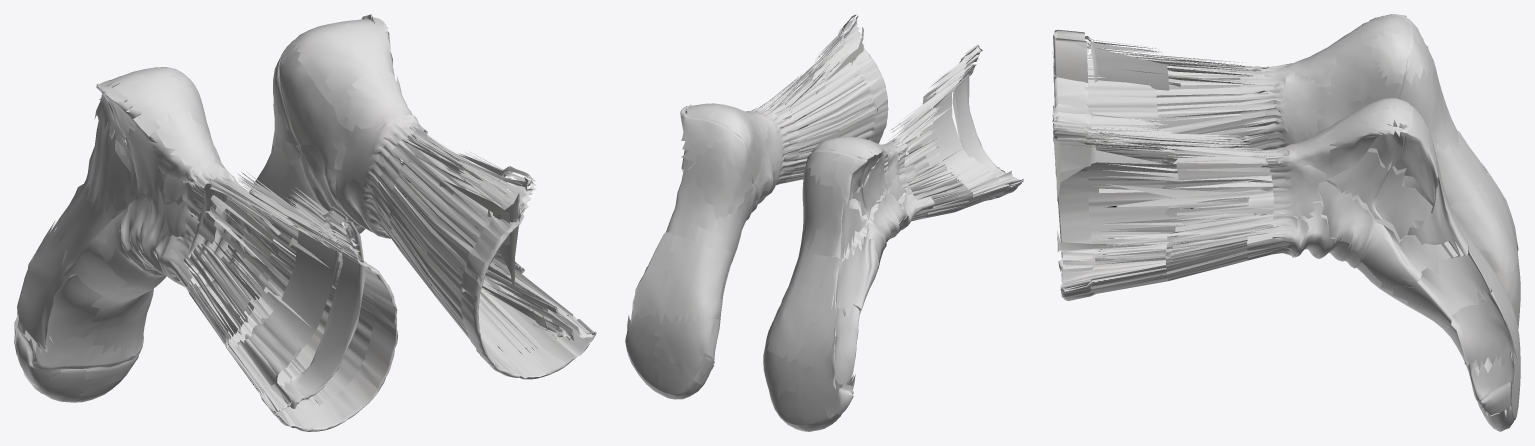
File: adult-base-01.glb
3 views of the same model, side by side, from view 1: azimuth 30°, elevation 25°; view 2: azimuth 150°, elevation 25°; view 3: azimuth 270°, elevation 25° (orthographic). The views are drawn at different scales.
Parts seen in each view (by area): view 1: geometry_0; view 2: geometry_0; view 3: geometry_0.
Part boxes in pixels (x1,y1,x2,y2): geometry_0: (14, 14, 596, 431); geometry_0: (625, 14, 1023, 431); geometry_0: (1052, 14, 1520, 431).
Bounding box in the file's own units: 0.00219 × 0.00244 × 0.00321.
Materials: 1 (1 with a texture image).
